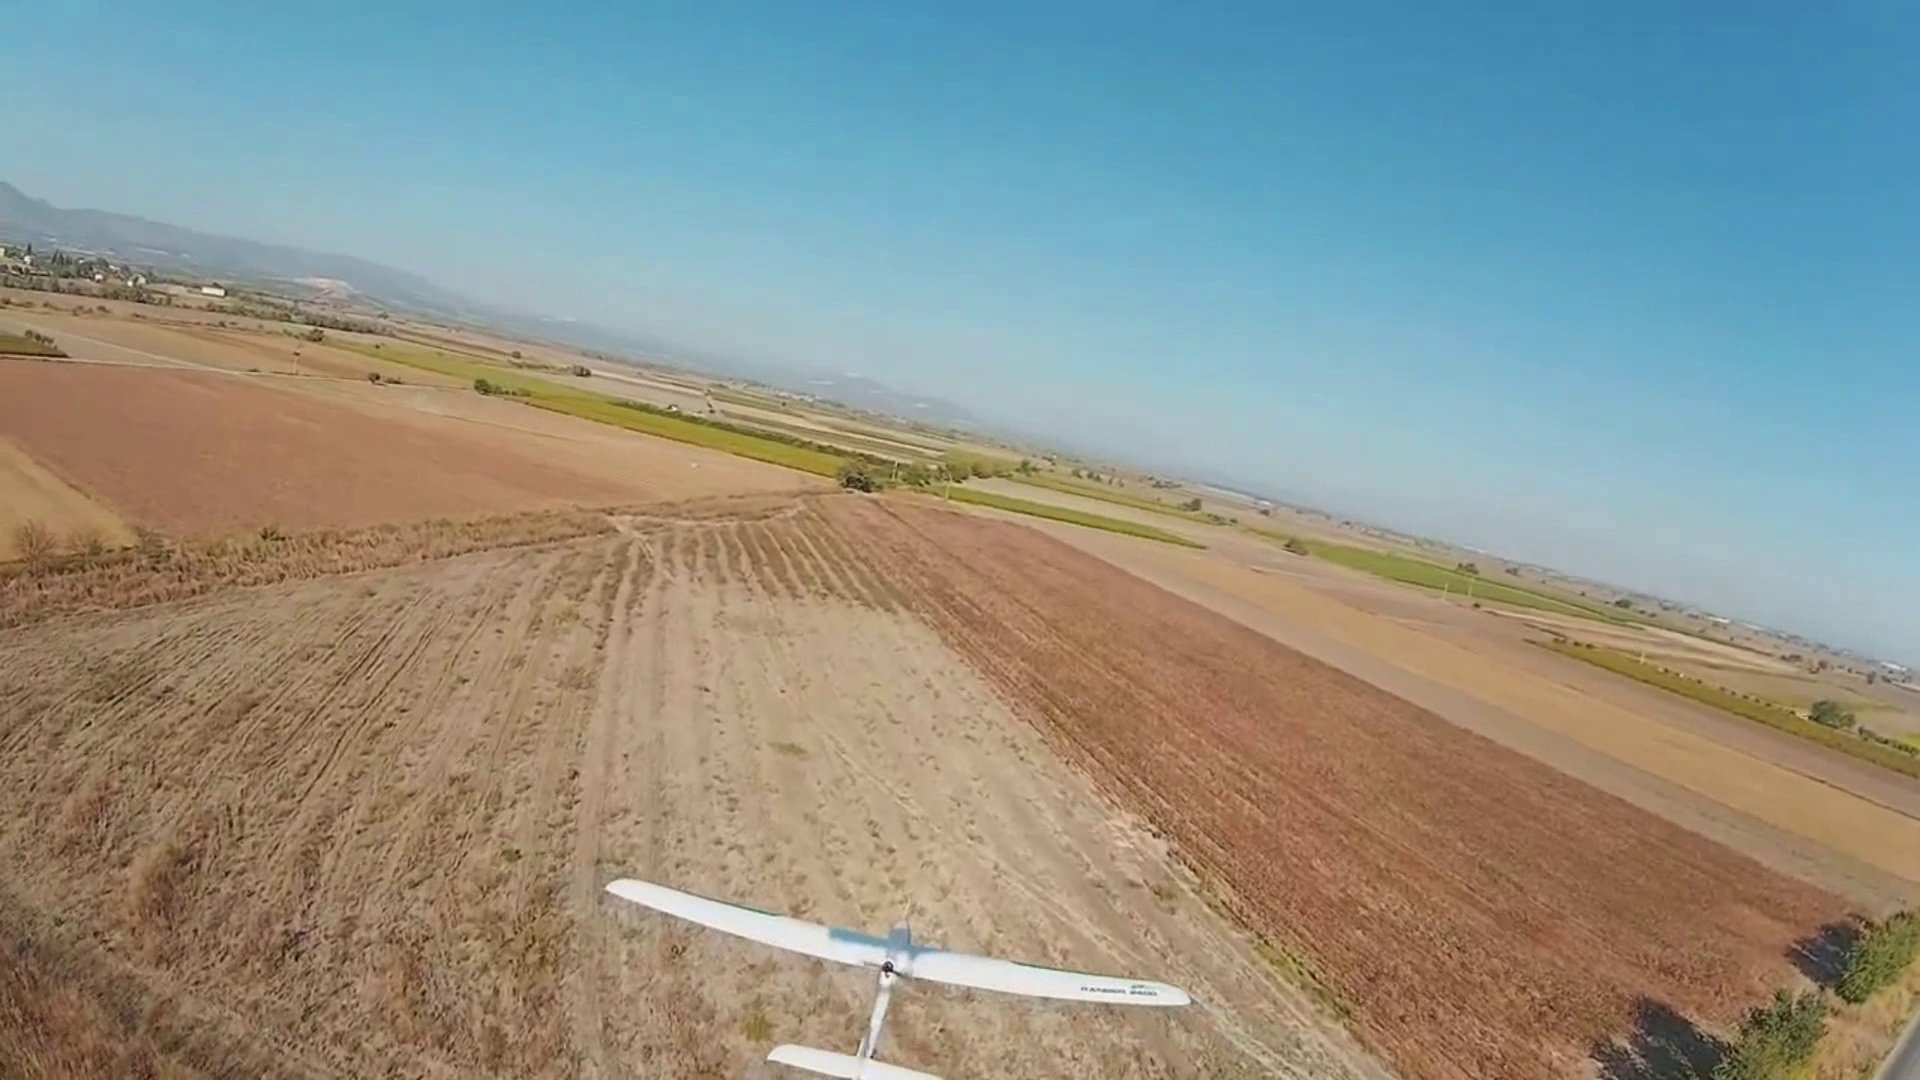airplane: (601, 875, 1191, 1071)
